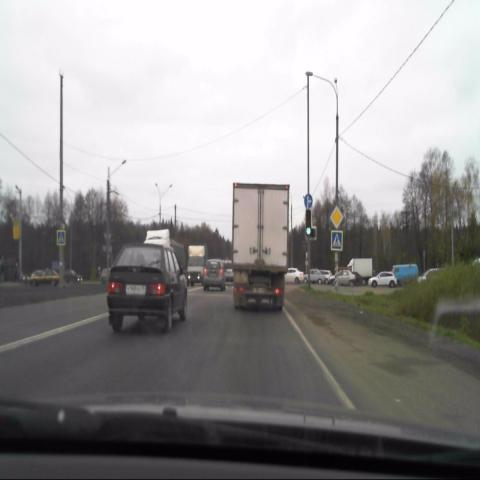2_1: (330, 206, 344, 230)
4_1_4: (303, 192, 313, 209)
5_19_1: (330, 228, 344, 253)
